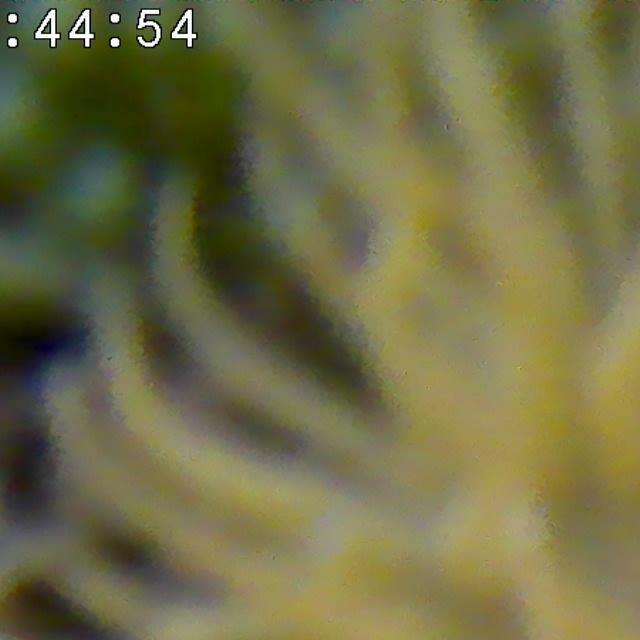SeaGrape: (46, 137, 149, 246)
